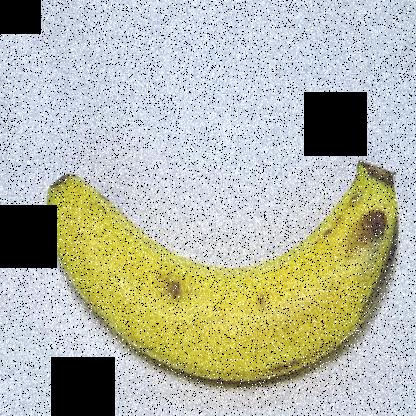freshripe: (40, 122, 404, 397)
